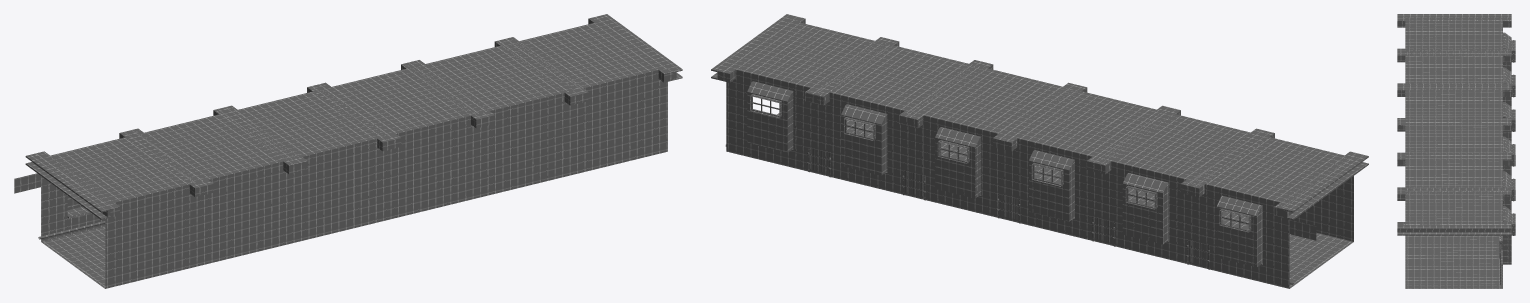
The model's file is interior environment blockout2.glb.
3 views of the same model, side by side, from view 1: azimuth 30°, elevation 25°; view 2: azimuth 150°, elevation 25°; view 3: azimuth 270°, elevation 25° (orthographic). The views are drawn at different scales.
Parts seen in each view (by area): view 1: Plane_002; view 2: Plane_002; view 3: Plane_002.
Part boxes in pixels (x1,y1,x2,y2): Plane_002: (14, 14, 682, 288); Plane_002: (711, 14, 1368, 288); Plane_002: (1397, 14, 1515, 288).
Bounding box in the file's own units: 234 × 31.59 × 53.11.
1 material, 1 textured.
